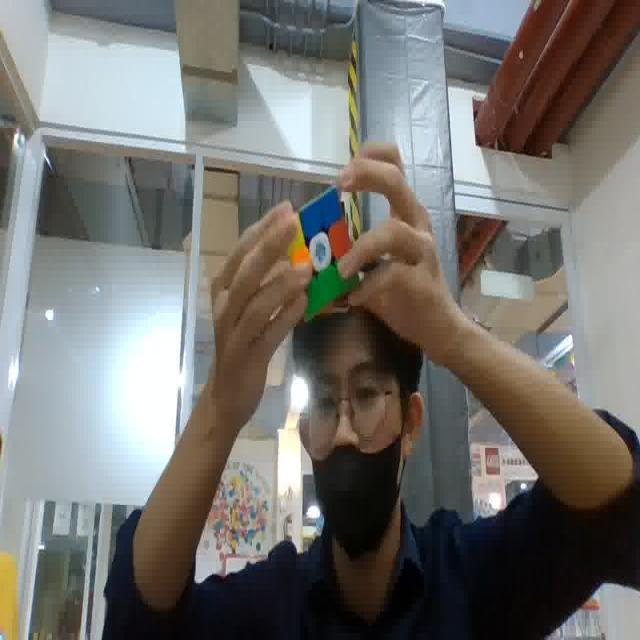Rub: (272, 180, 364, 322)
